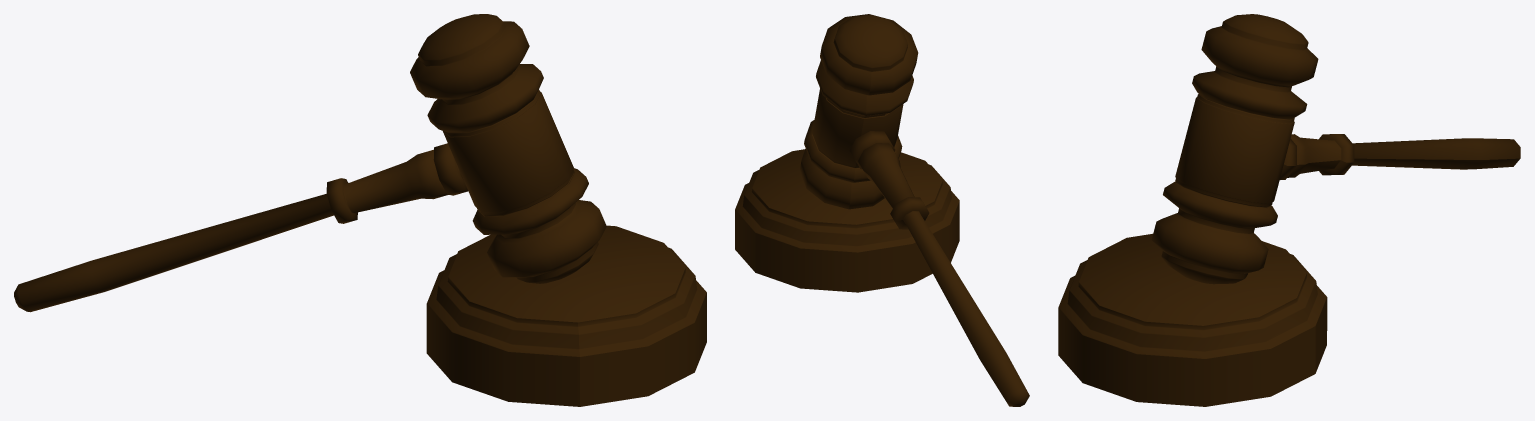
The model's file is gavel.fbx.
3 renders of one model, left to right at view 1: azimuth 30°, elevation 25°; view 2: azimuth 150°, elevation 25°; view 3: azimuth 270°, elevation 25°, orthographic. The views are drawn at different scales.
Parts seen in each view (by area): view 1: hammer:Hammer_piv, hammer:Hammer_st2; view 2: hammer:Hammer_piv, hammer:Hammer_st2; view 3: hammer:Hammer_st2, hammer:Hammer_piv.
Part boxes in pixels (x1,y1,x2,y2): hammer:Hammer_piv: (14, 14, 606, 312); hammer:Hammer_st2: (426, 225, 706, 406); hammer:Hammer_piv: (799, 14, 1029, 406); hammer:Hammer_st2: (735, 149, 959, 292); hammer:Hammer_st2: (1058, 233, 1327, 406); hammer:Hammer_piv: (1151, 14, 1520, 284).
Size of the model in its own units: 10.59 by 6.31 by 8.69.
